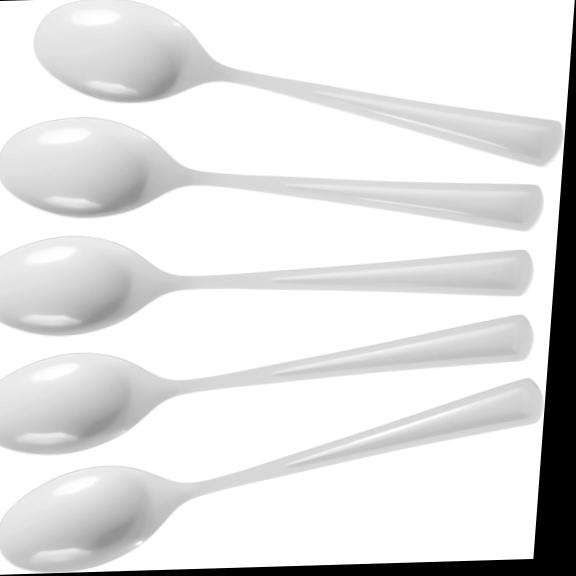Plastik: (0, 378, 542, 571), (35, 0, 562, 165), (0, 315, 532, 453), (0, 117, 542, 229), (0, 236, 532, 334)
